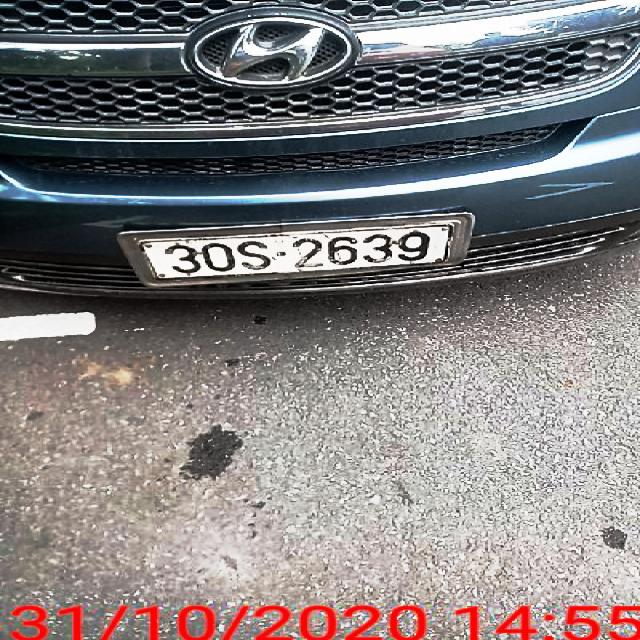license_plate: (136, 226, 451, 280)
